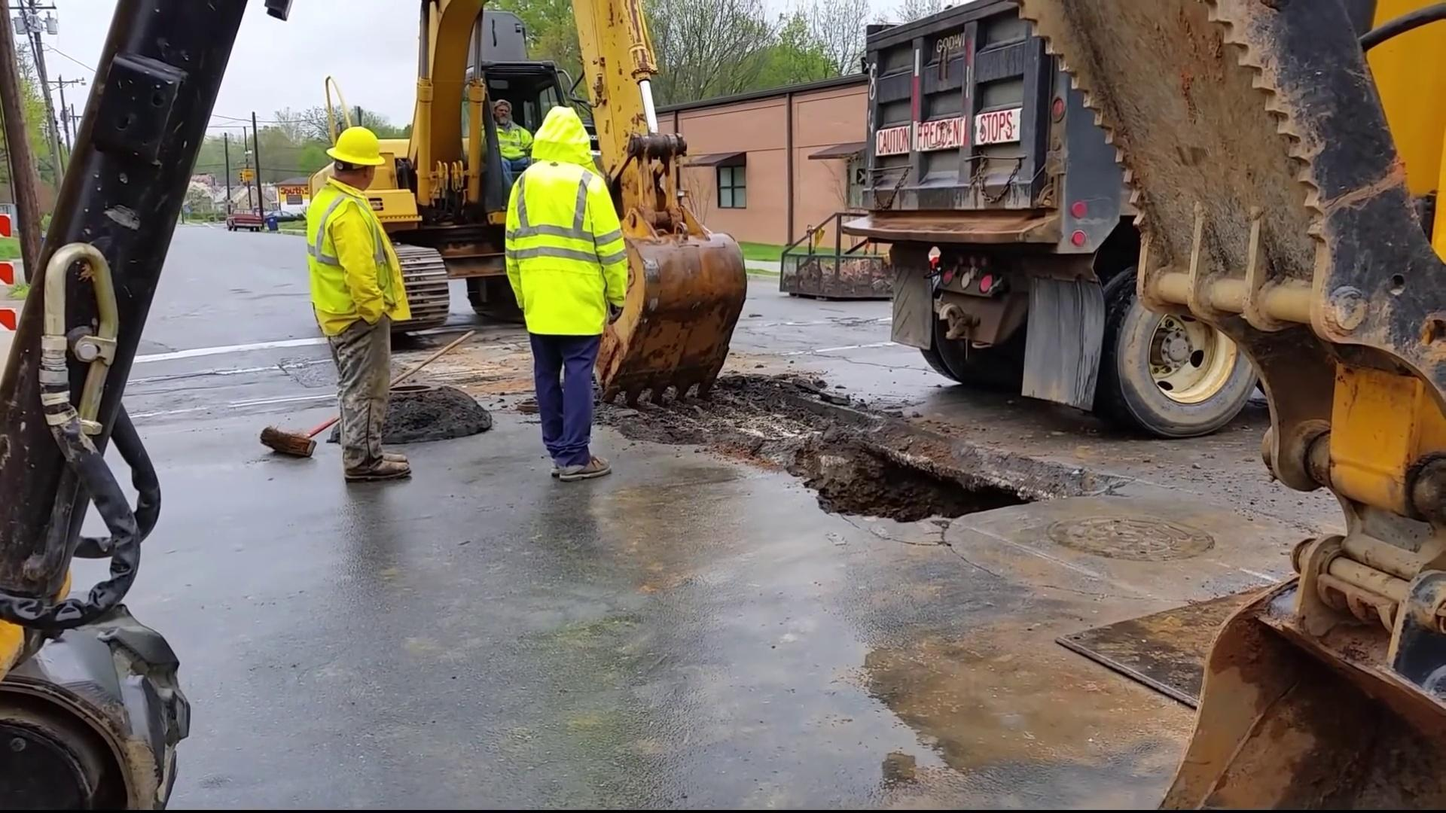apron: (607, 296, 629, 323)
